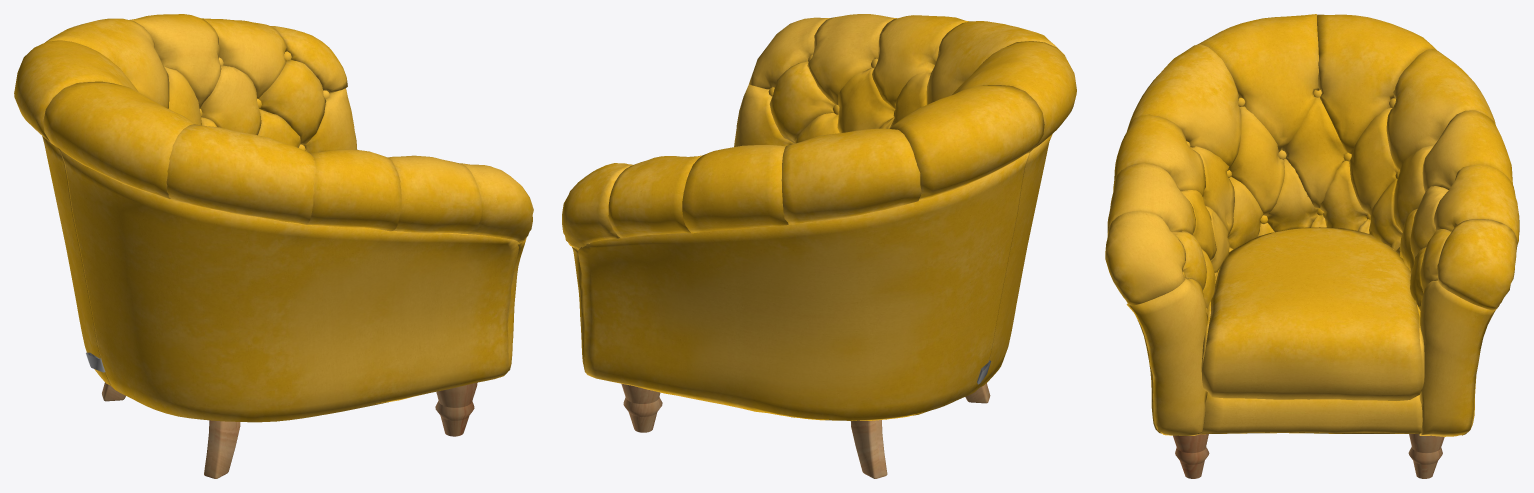
Rendered from sofa.FBX.
3 renders of one model, left to right at view 1: azimuth 30°, elevation 25°; view 2: azimuth 150°, elevation 25°; view 3: azimuth 270°, elevation 25°, orthographic. The views are drawn at different scales.
Visible parts, largest first — view 1: sofa; view 2: sofa; view 3: sofa.
Part boxes in pixels (x1=…): sofa: x1=14, y1=14, x2=533, y2=478; sofa: x1=562, y1=14, x2=1076, y2=478; sofa: x1=1105, y1=14, x2=1519, y2=478.
Size of the model in its own units: 11.11 by 10.03 by 11.45.
Materials: 1 (1 with a texture image).
